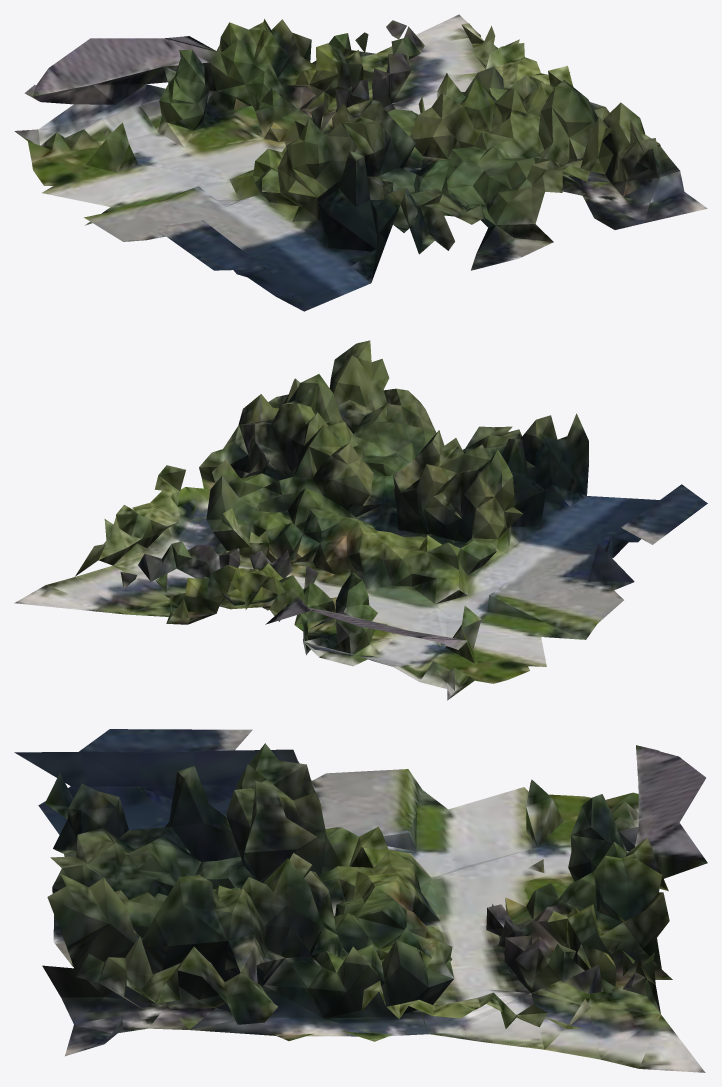
File: Tile_+004_+005_L17_00.glb
The picture shows the model from 3 angles, top to bottom: view 1: azimuth 30°, elevation 25°; view 2: azimuth 150°, elevation 25°; view 3: azimuth 270°, elevation 25°; orthographic projection. The views are drawn at different scales.
Bounding box in the file's own units: 60.62 × 13.71 × 60.7.
Materials: 1 (1 with a texture image).
